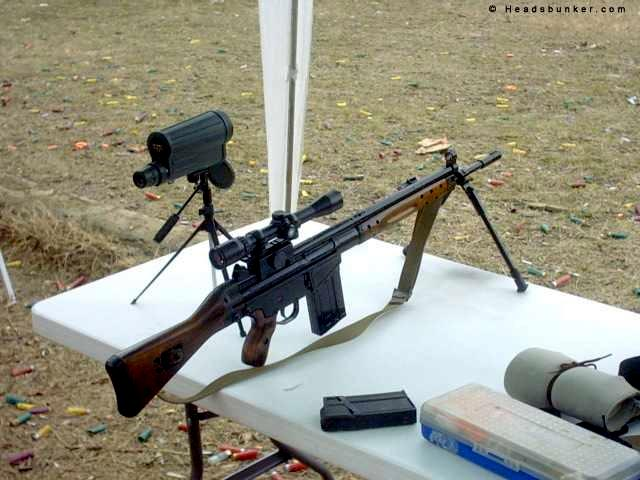rifle: (82, 111, 514, 418)
